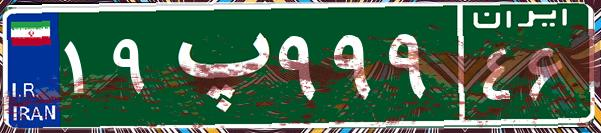1: (57, 26, 110, 107)
4: (475, 38, 525, 113)
6: (525, 38, 570, 115)
9: (385, 28, 445, 110), (273, 28, 330, 110), (330, 28, 385, 110), (110, 28, 158, 105)
پ: (158, 15, 273, 115)
